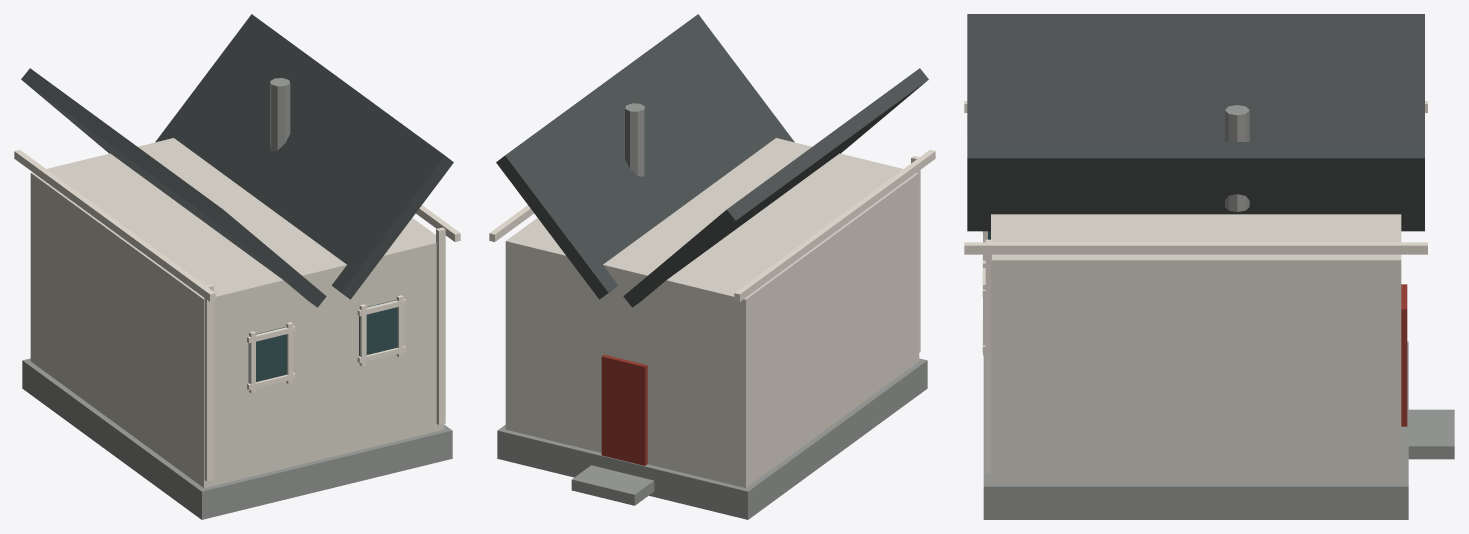
The model's file is norway-house-white-red_lod0.glb.
The picture shows the model from 3 angles, left to right: view 1: azimuth 30°, elevation 25°; view 2: azimuth 150°, elevation 25°; view 3: azimuth 270°, elevation 25°; orthographic projection. The views are drawn at different scales.
Visible parts, largest first — view 1: RF_House_Walls, RF_House_RoofB, RF_House_Foundation, RF_House_RoofA, RF_House_Fascia, RF_House_Corner.001, RF_House_Corner, RF_House_Chimney, RF_House_WindowRecess.001, RF_House_WindowRecess, RF_House_Fascia.001; view 2: RF_House_Walls, RF_House_RoofB, RF_House_Foundation, RF_House_RoofA, RF_House_Door, RF_House_Fascia, RF_House_Threshold, RF_House_Chimney, RF_House_Fascia.001; view 3: RF_House_Walls, RF_House_RoofA, RF_House_RoofB, RF_House_Foundation, RF_House_Fascia.001, RF_House_Threshold, RF_House_Corner.001, RF_House_Chimney, RF_House_Door.
Boxes of the visible parts, <box> form: RF_House_Walls: <box>30,138,444,487</box>; RF_House_RoofB: <box>155,14,453,299</box>; RF_House_Foundation: <box>22,358,452,519</box>; RF_House_RoofA: <box>21,68,326,307</box>; RF_House_Fascia: <box>14,149,215,301</box>; RF_House_Corner.001: <box>436,227,445,424</box>; RF_House_Corner: <box>204,284,213,481</box>; RF_House_Chimney: <box>270,78,290,151</box>; RF_House_WindowRecess.001: <box>359,300,397,356</box>; RF_House_WindowRecess: <box>248,327,286,382</box>; RF_House_Fascia.001: <box>415,205,460,241</box>; RF_House_Walls: <box>505,138,919,487</box>; RF_House_RoofB: <box>496,14,794,299</box>; RF_House_Foundation: <box>497,358,927,519</box>; RF_House_RoofA: <box>623,68,928,307</box>; RF_House_Door: <box>601,354,647,465</box>; RF_House_Fascia: <box>734,149,935,301</box>; RF_House_Threshold: <box>571,465,654,505</box>; RF_House_Chimney: <box>625,103,645,176</box>; RF_House_Fascia.001: <box>489,205,534,241</box>; RF_House_Walls: <box>991,214,1401,483</box>; RF_House_RoofA: <box>967,14,1424,141</box>; RF_House_RoofB: <box>967,142,1424,231</box>; RF_House_Foundation: <box>983,341,1408,519</box>; RF_House_Fascia.001: <box>964,242,1427,254</box>; RF_House_Threshold: <box>1408,409,1454,459</box>; RF_House_Corner.001: <box>985,239,991,473</box>; RF_House_Chimney: <box>1225,105,1249,211</box>; RF_House_Door: <box>1401,284,1407,426</box>.
Bounding box in the file's own units: 8.35 × 10 × 11.95.
